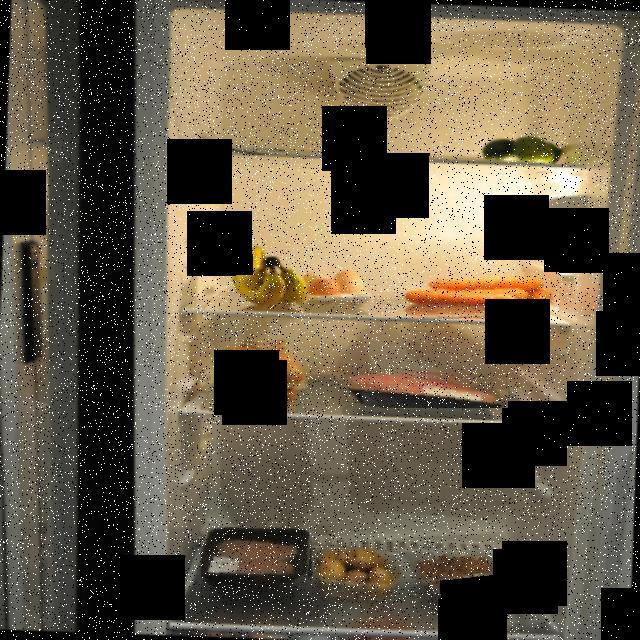banana: (221, 241, 309, 309)
carrot: (387, 272, 559, 322)
chicken_breast: (202, 528, 314, 592)
chocolate: (217, 145, 286, 155)
eggs: (294, 268, 372, 310)
ground_beef: (342, 368, 508, 408)
lime: (476, 132, 568, 167)
onion: (209, 338, 311, 412)
potato: (314, 542, 400, 601)
shrimp: (411, 554, 504, 602)
